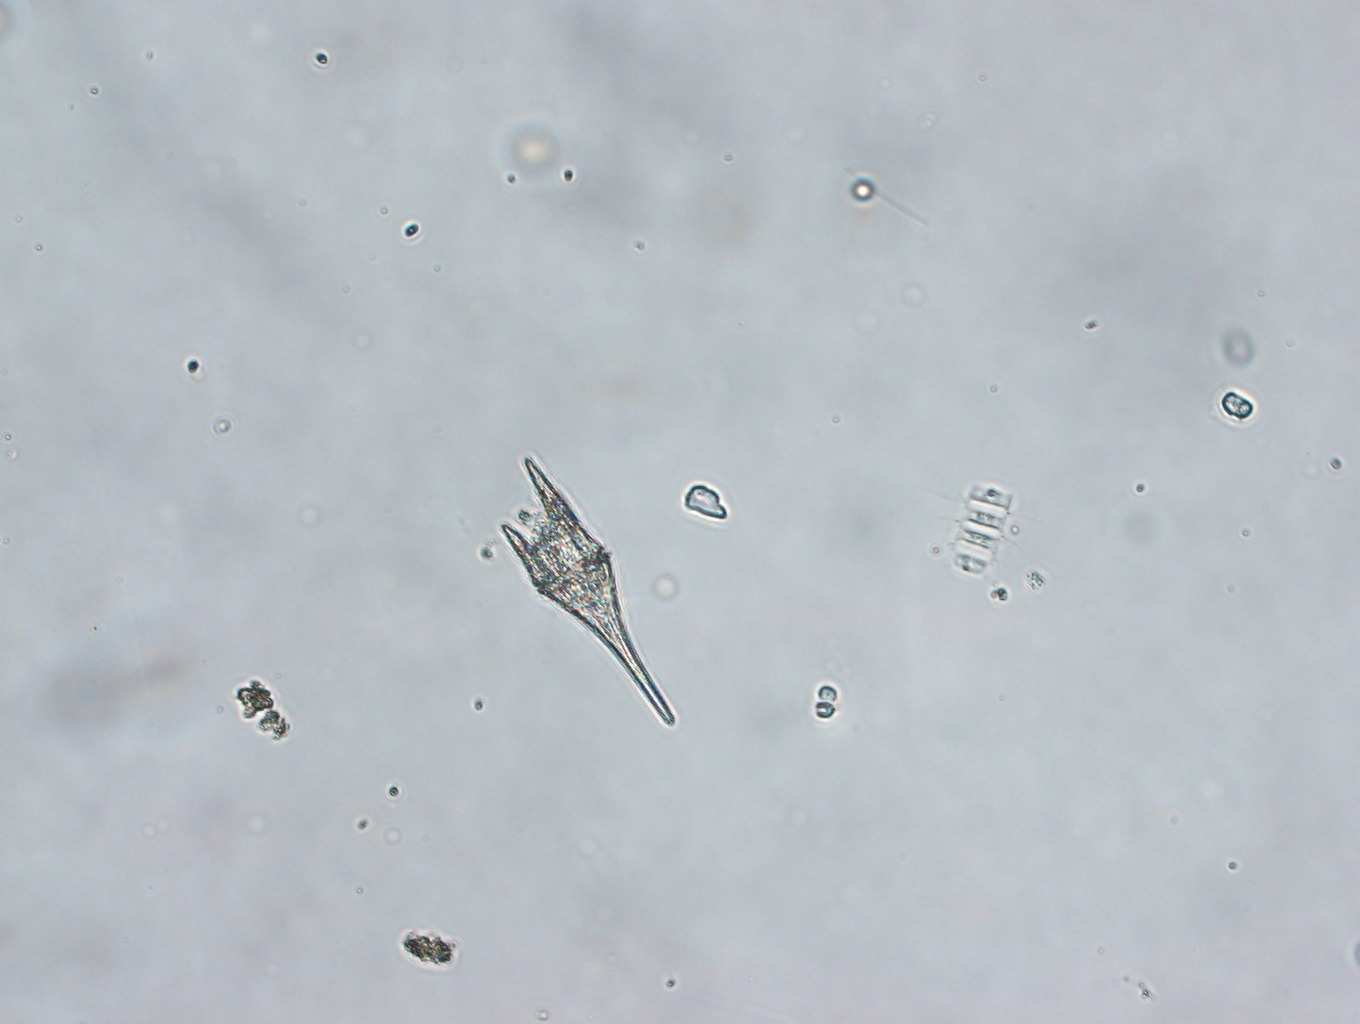ceratium furca: (499, 455, 676, 733)
chaetoceros: (931, 481, 1031, 585)
